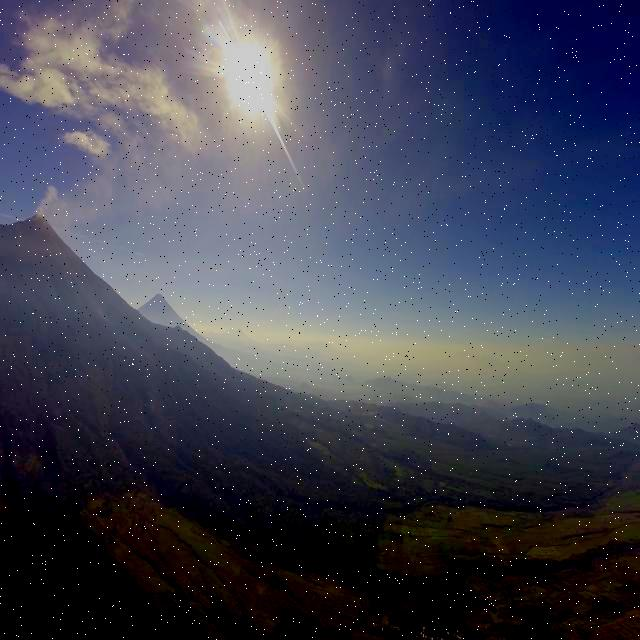Plume: (38, 184, 61, 218)
Summit: (22, 208, 54, 238)
